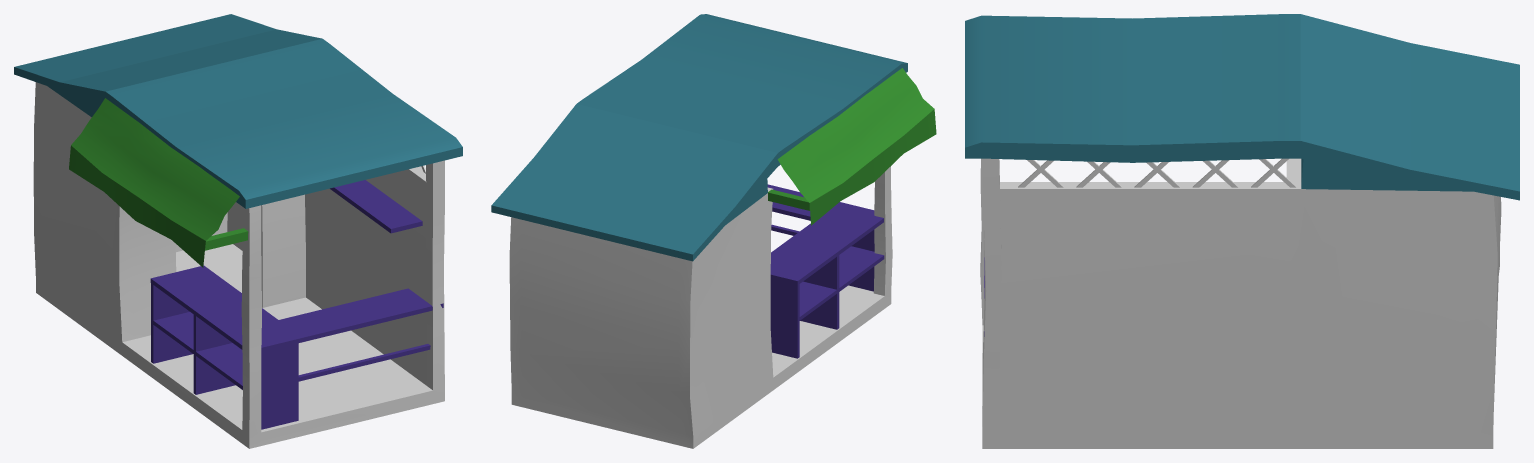
The model's file is shop.FBX.
3 views of the same model, side by side, from view 1: azimuth 30°, elevation 25°; view 2: azimuth 150°, elevation 25°; view 3: azimuth 270°, elevation 25° (orthographic). The views are drawn at different scales.
Parts seen in each view (by area): view 1: shop, Box001, paravent, Box002, Box003, Box004, Parvent_hold; view 2: shop, Box001, paravent, Box002, Box003, Parvent_hold; view 3: shop, Box001, triangles.
Boxes of the visible parts, x1,y1,x2,y2 form: shop: [33, 82, 444, 448]; Box001: [14, 14, 462, 208]; paravent: [69, 98, 239, 267]; Box002: [151, 283, 430, 429]; Box003: [150, 265, 443, 352]; Box004: [330, 180, 422, 233]; Parvent_hold: [205, 228, 248, 250]; shop: [509, 166, 892, 448]; Box001: [491, 14, 907, 261]; paravent: [777, 68, 936, 225]; Box002: [770, 224, 884, 358]; Box003: [767, 184, 883, 285]; Parvent_hold: [768, 189, 809, 210]; shop: [980, 158, 1501, 448]; Box001: [965, 14, 1519, 200]; triangles: [1018, 158, 1296, 187].
Bounding box in the file's own units: 390 × 385 × 616.
